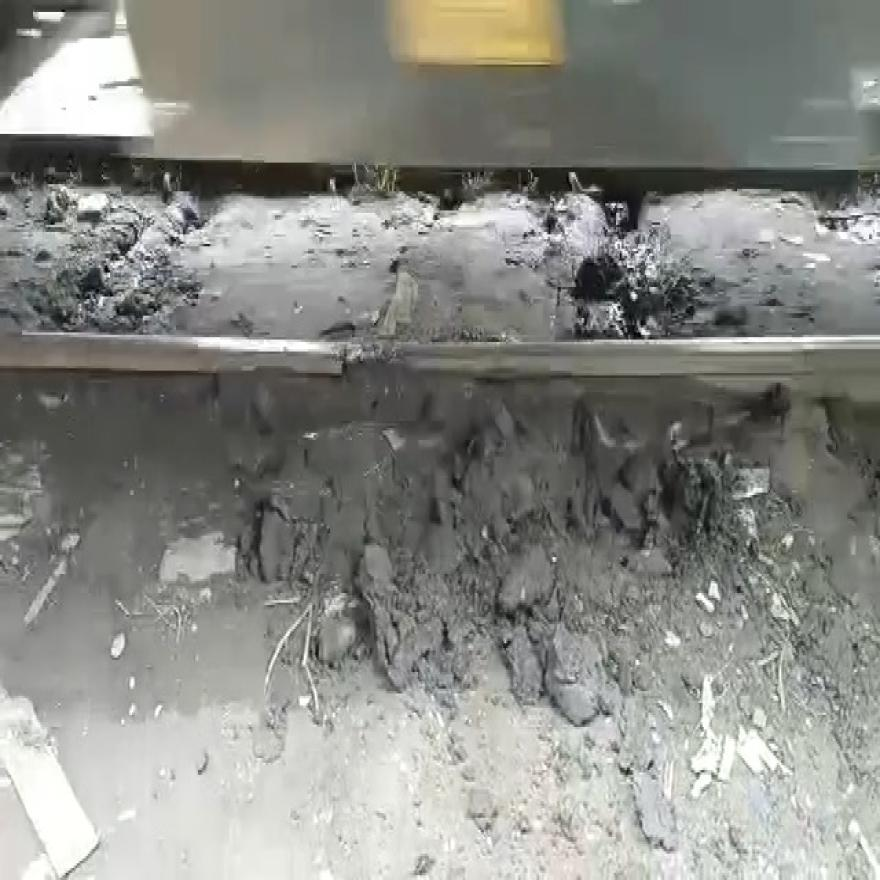railway-gap: (299, 292, 384, 419)
